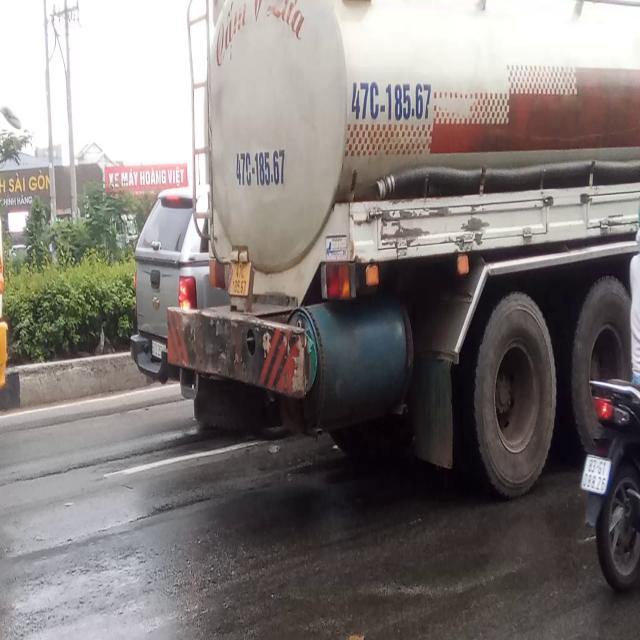bien_trang: (576, 449, 612, 496)
bien_vang: (230, 253, 250, 293)
